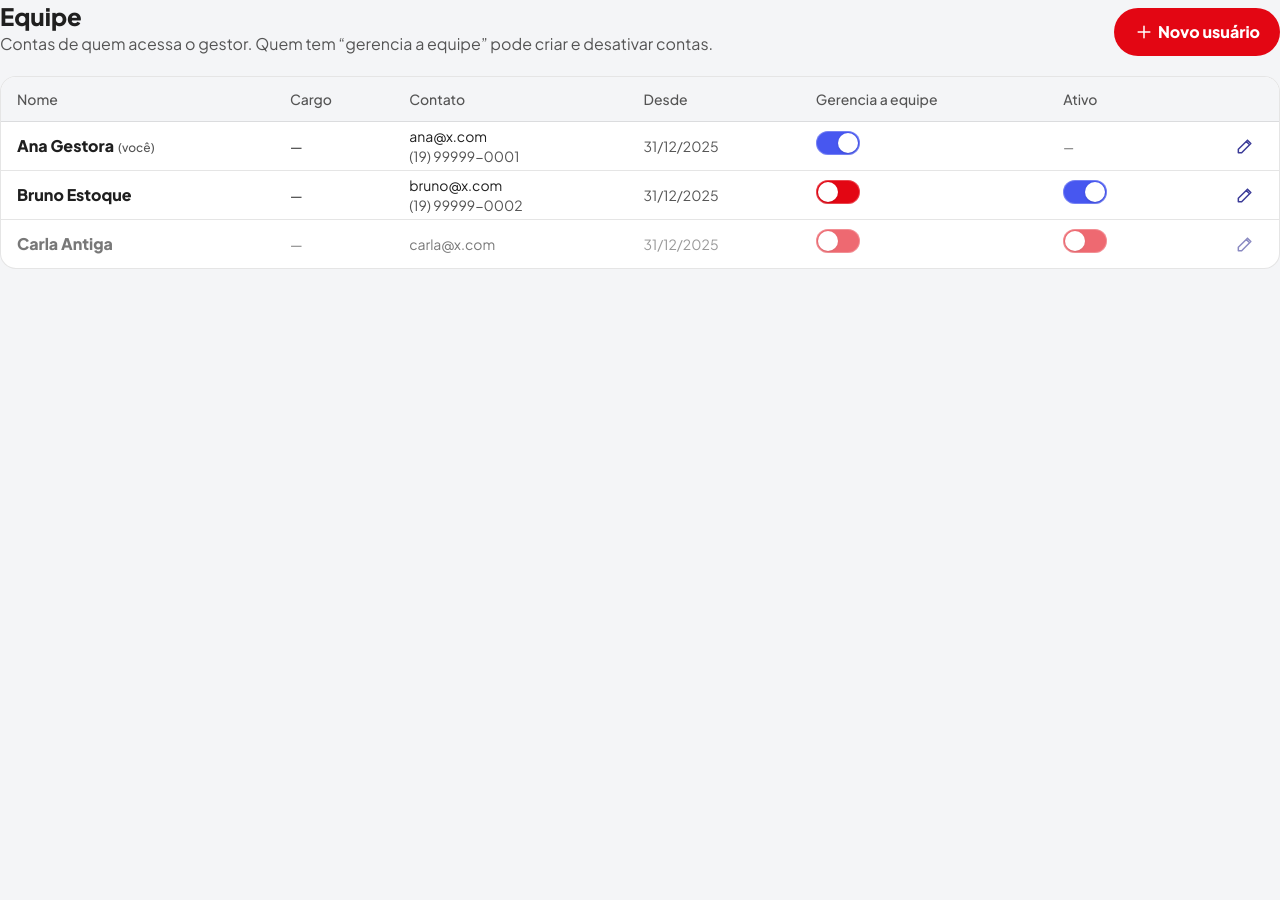
Test case: Equipe: redefinição de senha por link › usuário inativo vê o aviso de reativar e não o botão
Click the button named "Editar" in the row of "Carla Antiga" at (1245, 244), box [1227,226,1263,262]
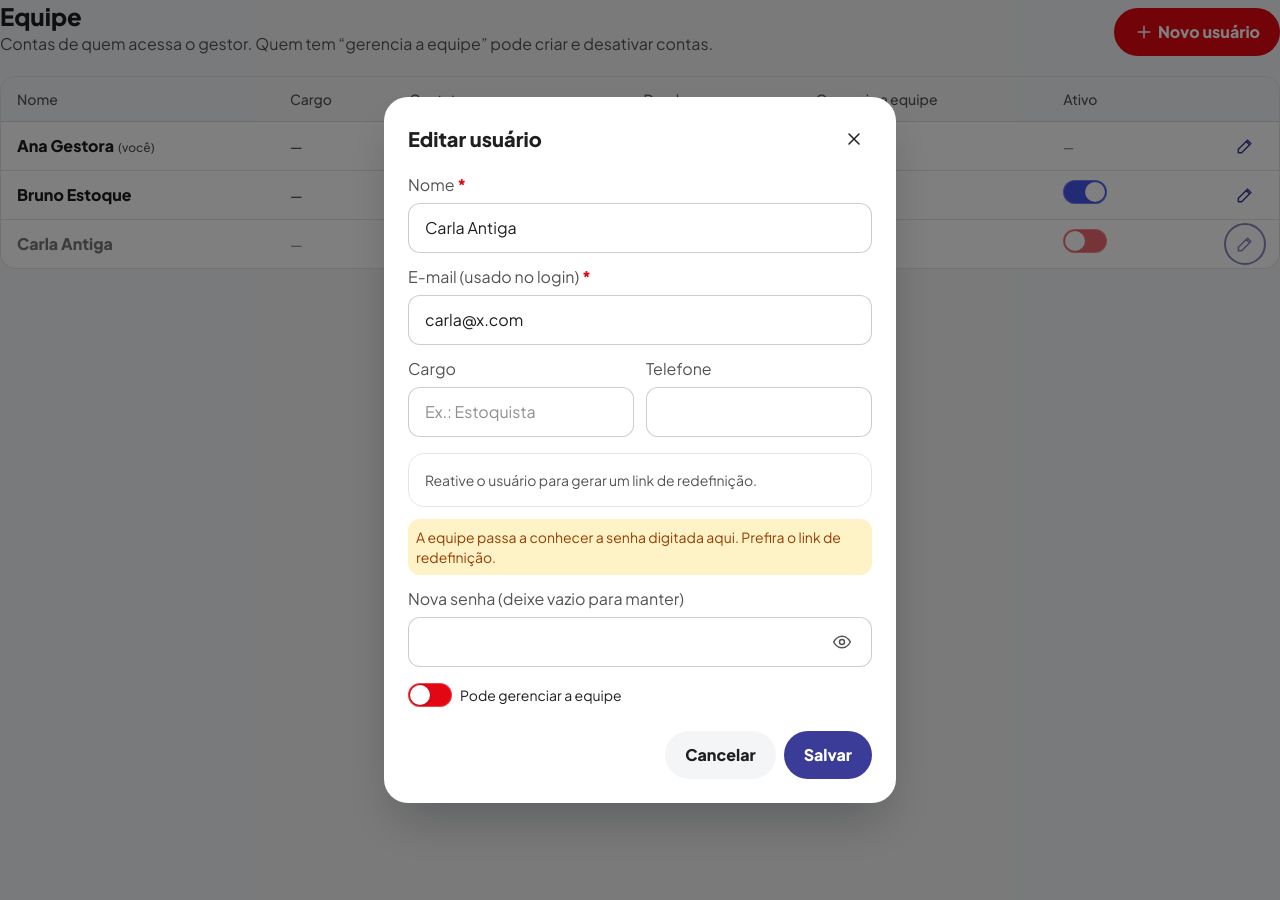
Check: the text "Reative o usuário para gerar um link de redefinição." is shown, box [408,453,872,507]
